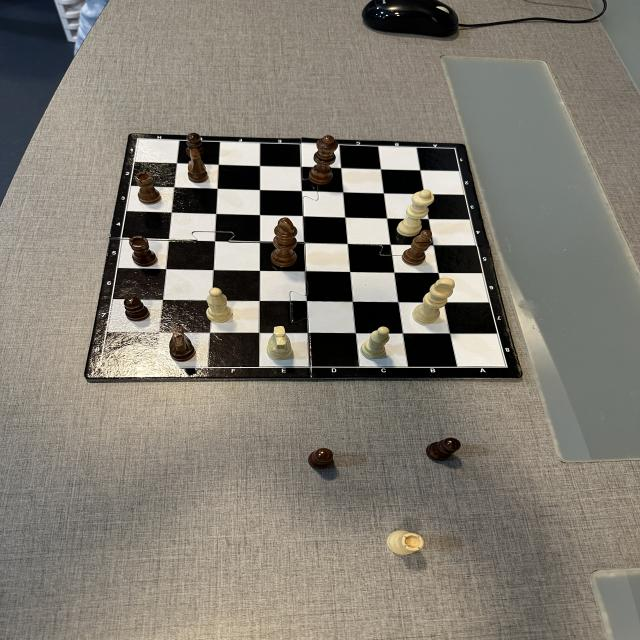Black-Bishop: (402, 231, 432, 266)
Black-King: (272, 217, 298, 267)
Black-Knight: (169, 329, 196, 362), (187, 149, 208, 183)
Black-Pawn: (426, 437, 461, 463), (124, 297, 150, 321), (308, 448, 332, 471), (185, 132, 202, 158)
Black-Queen: (309, 135, 338, 185)
Black-Rook: (129, 236, 158, 267), (135, 172, 162, 204)
White-Bishop: (360, 326, 391, 359), (206, 288, 233, 323)
White-King: (413, 278, 455, 325)
White-Knight: (268, 326, 292, 359)
White-Queen: (396, 190, 436, 237)
White-Rook: (388, 530, 424, 555)
